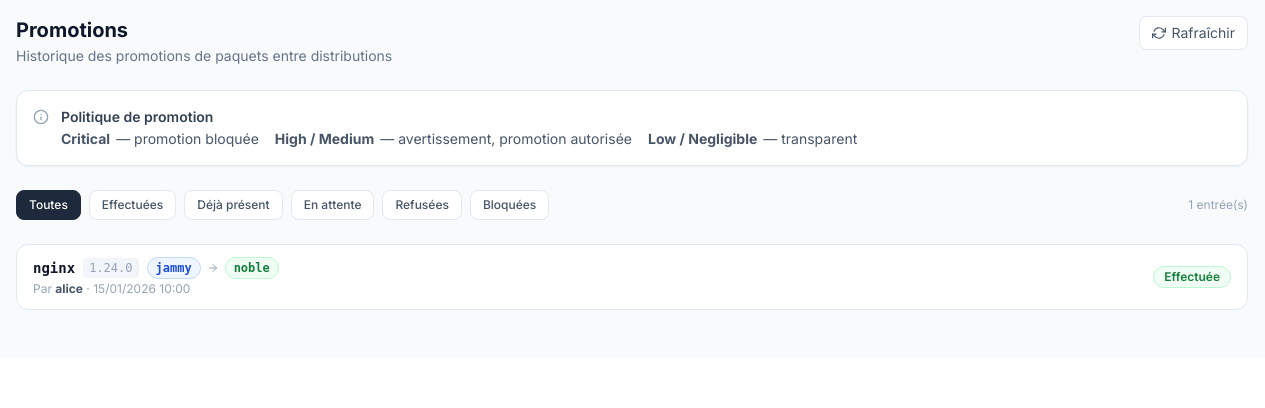
Test case: PromotionsPage — filtres de statut › filtre "En attente" masque une promotion "approved"
This screenshot has width=1265, height=408.
Expected: the text "nginx" is shown, [33,258,75,278]
Click the button "En attente": (333,205) [291,190,374,220]
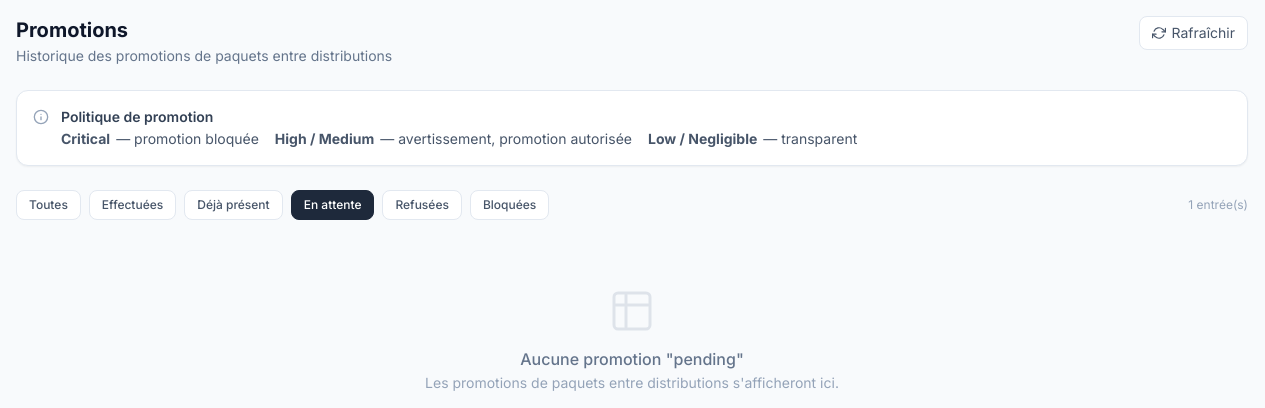
Now the text "nginx" is gone
Now the text "Aucune promotion \"pending\"" is shown, box [520,347,744,371]
